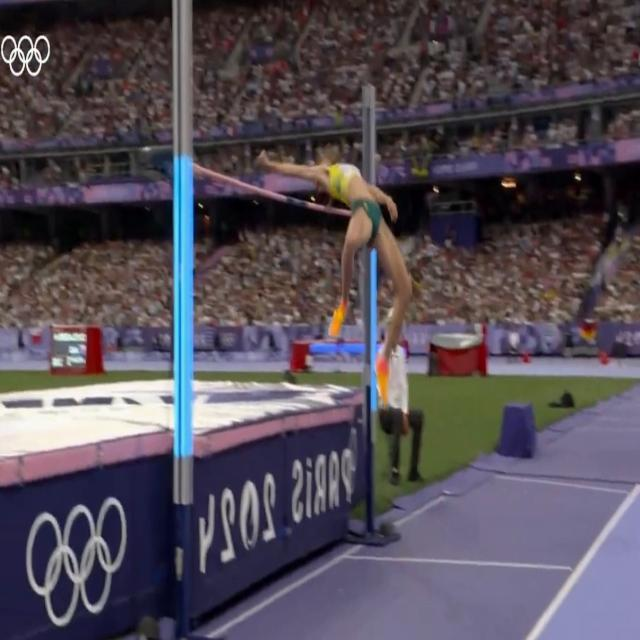jump: (275, 148, 411, 411)
